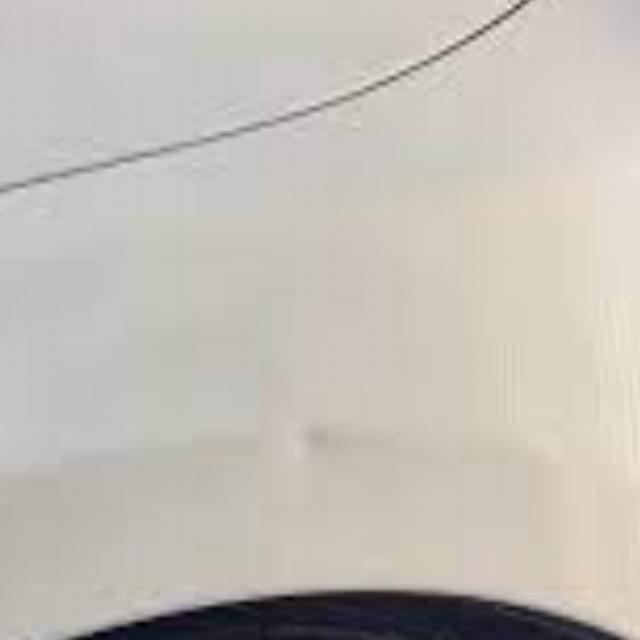dents: (256, 398, 387, 484)
